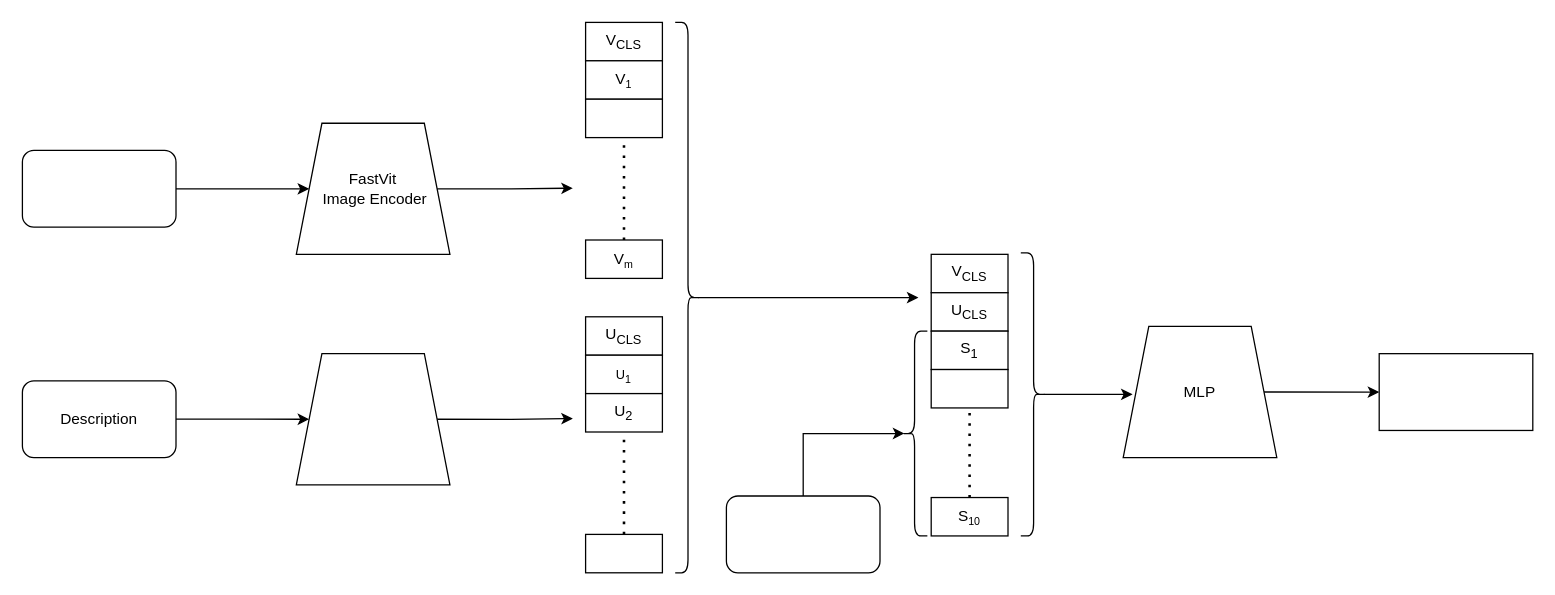
The diagram is 1555 pixels wide and 595 high, and some of its shapes have lost their labels. Each missing label, with the centre of its shape:
"BERT Text Encoder" goes at (x=372, y=418).
"Image" goes at (x=98, y=188).
"Prediction" goes at (x=1455, y=391).
"S 2" goes at (x=969, y=388).
"Structured Data" goes at (x=802, y=534).
"U p" goes at (x=623, y=553).
"V 2" goes at (x=623, y=118).
